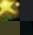legs: (0, 21, 20, 35), (20, 0, 33, 21)
star: (0, 0, 20, 21)
